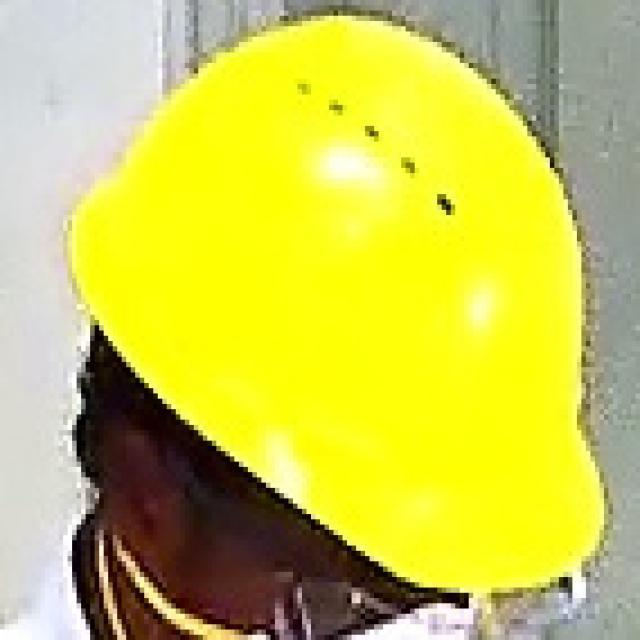yellow helmet: (64, 9, 623, 594)
